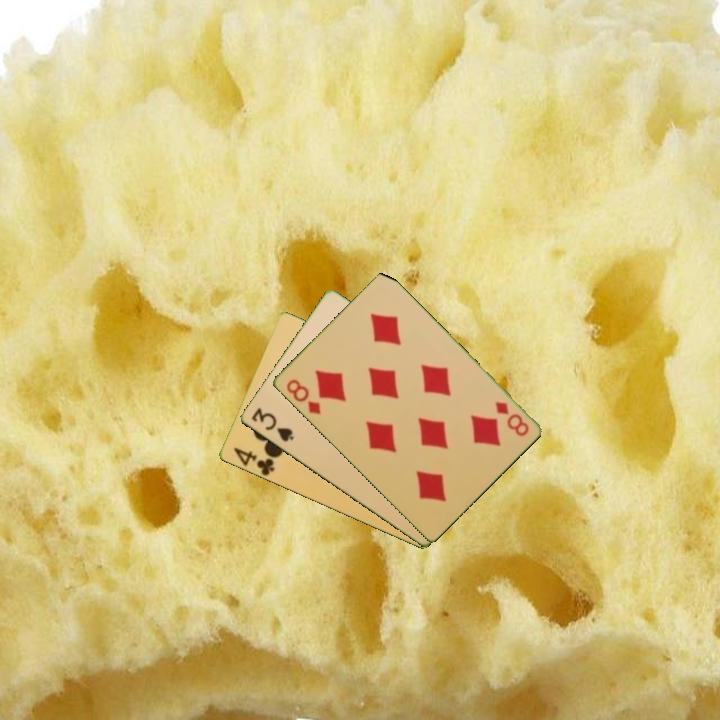3s: (247, 404, 297, 445)
4c: (230, 444, 277, 478)
8d: (282, 376, 323, 418), (491, 398, 532, 439)
